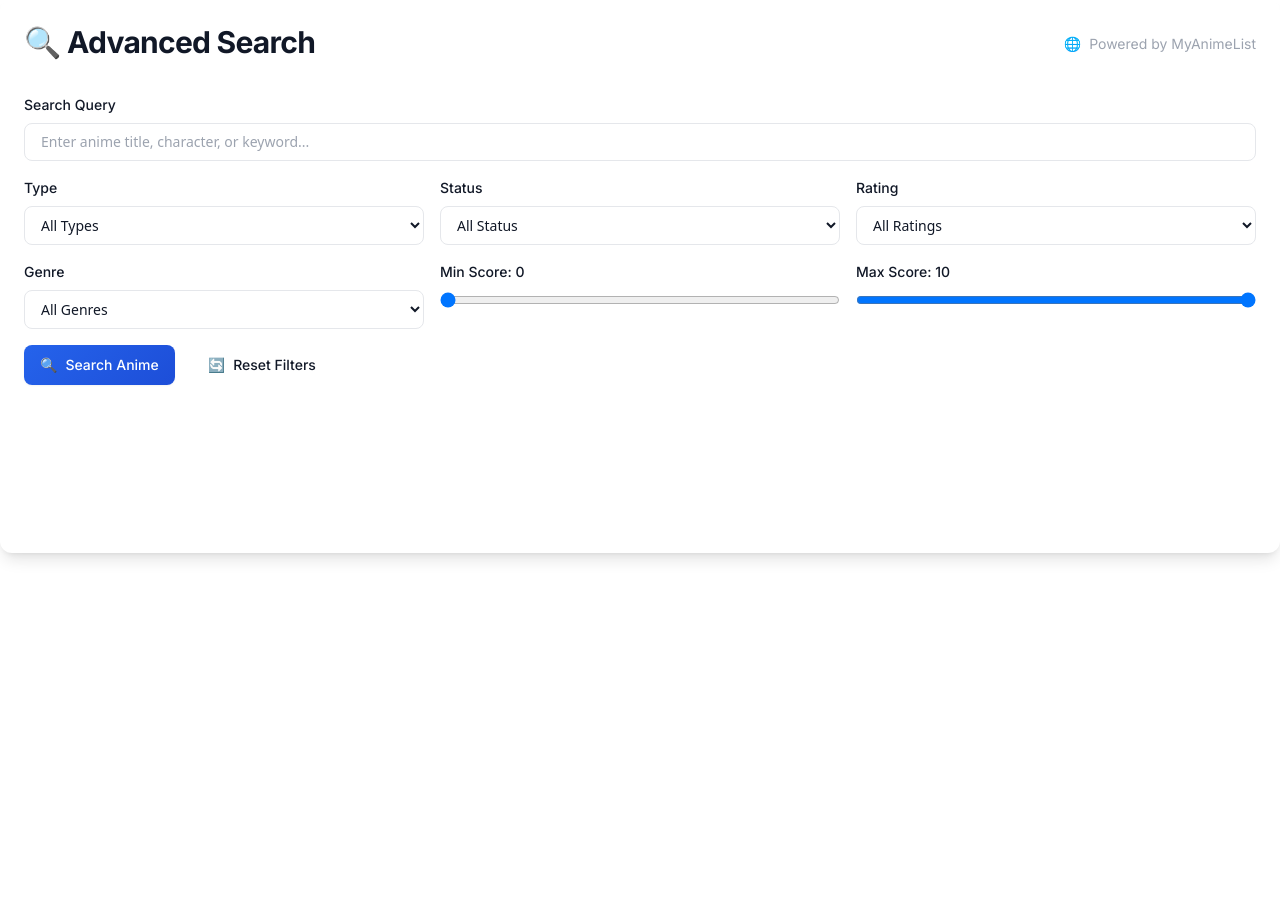
Scenario: AdvancedSearch Component › Search UI States › should show error message when search fails
This screenshot has width=1280, height=900.
Fill in search query to meet validation requirements
Type "naruto" into the field with placeholder "Enter anime title, character, or keyword..." at coordinates (640, 142), box [24,122,1256,160]
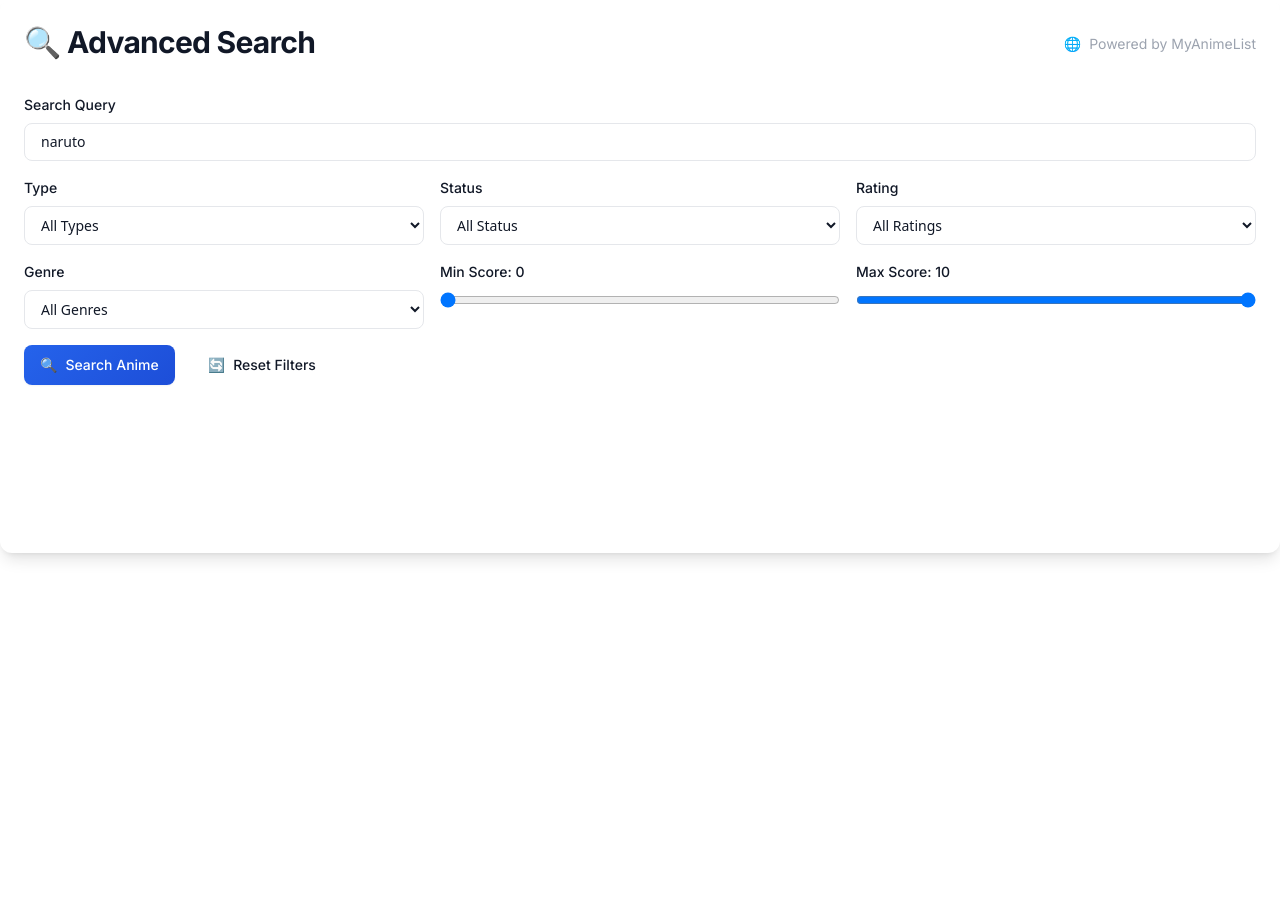
Click the button "🔍Search Anime" at coordinates (99, 364), box [24,344,175,384]
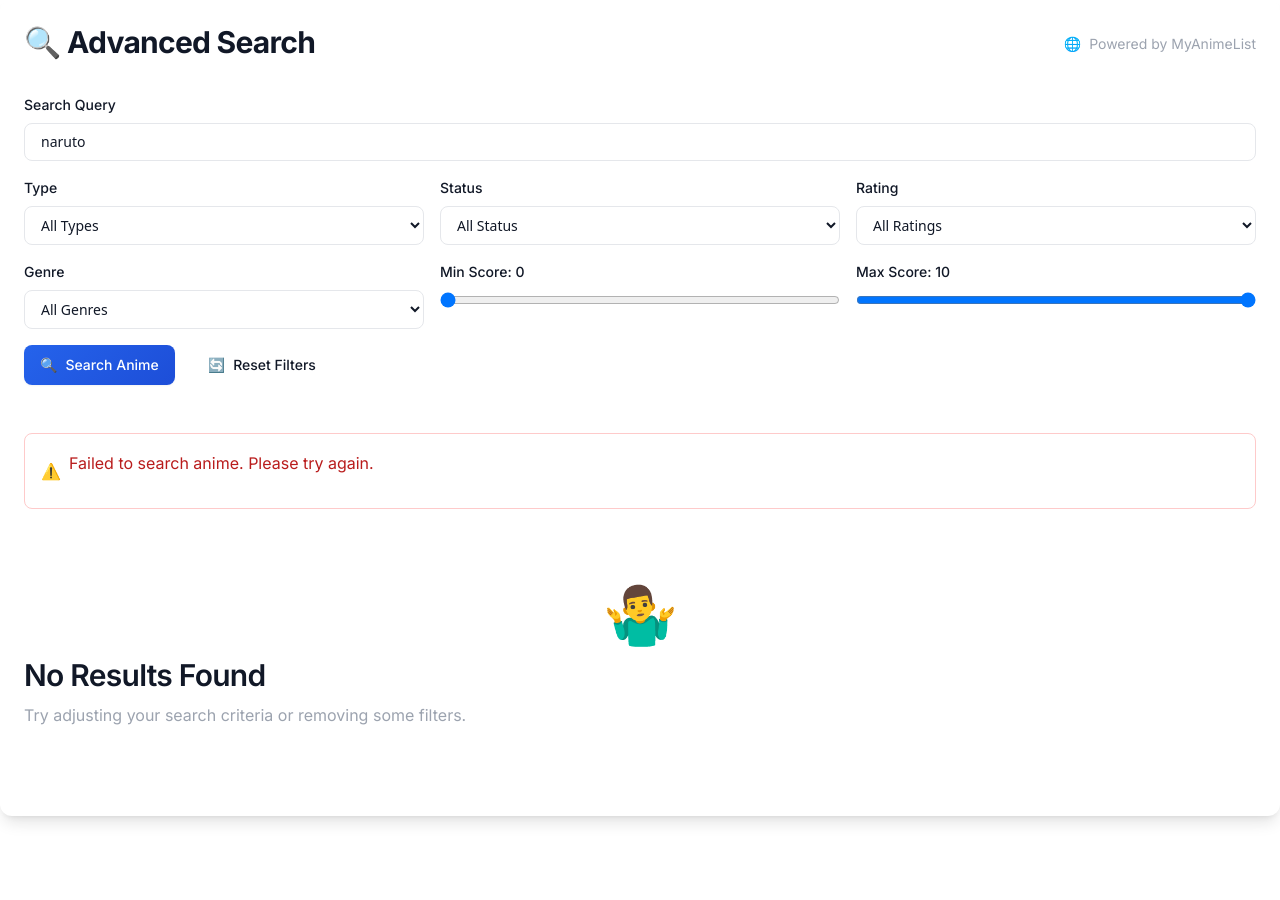
Check: the text "Failed to search anime. Please try again." is shown, box [69,450,374,476]
